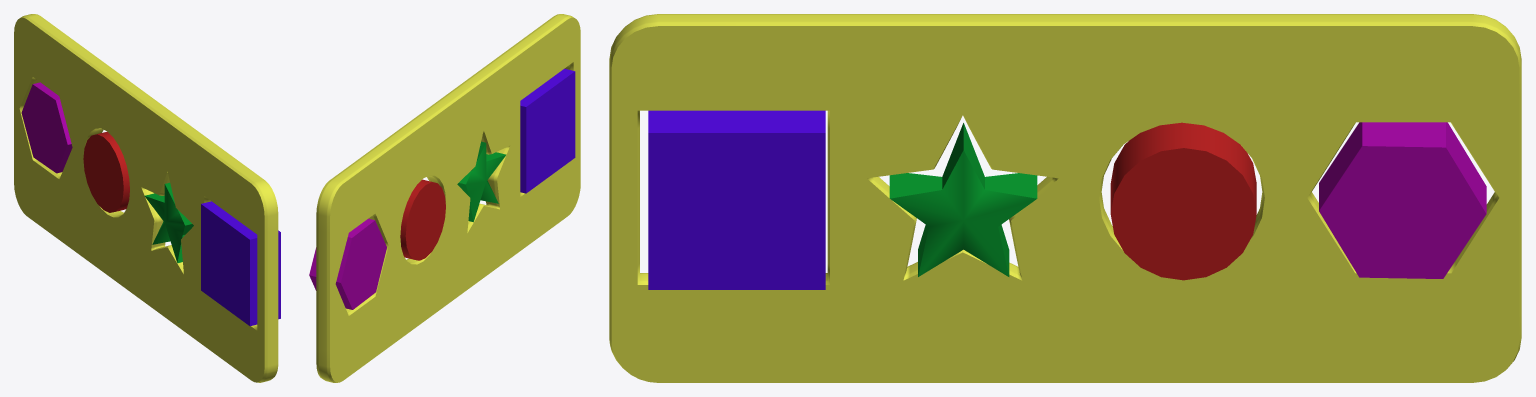
File: Formas montar.fbx
3 renders of one model, left to right at view 1: azimuth 30°, elevation 25°; view 2: azimuth 150°, elevation 25°; view 3: azimuth 270°, elevation 25°, orthographic. The views are drawn at different scales.
Parts seen in each view (by area): view 1: polySurface1, pCube10, poligono, pCylinder59, pCylinder58; view 2: polySurface1, pCube10, poligono, pCylinder59, pCylinder58; view 3: polySurface1, pCube10, poligono, pCylinder59, pCylinder58.
Part boxes in pixels (x1,y1,x2,y2): polySurface1: [14, 14, 278, 382]; pCube10: [201, 201, 280, 325]; poligono: [21, 82, 72, 173]; pCylinder59: [83, 131, 129, 212]; pCylinder58: [144, 182, 193, 263]; polySurface1: [316, 14, 580, 382]; pCube10: [520, 68, 575, 193]; poligono: [309, 218, 386, 309]; pCylinder59: [400, 179, 445, 260]; pCylinder58: [457, 141, 506, 222]; polySurface1: [609, 14, 1521, 382]; pCube10: [648, 110, 825, 289]; poligono: [1319, 122, 1486, 278]; pCylinder59: [1110, 122, 1256, 280]; pCylinder58: [889, 123, 1037, 276].
Bounding box in the file's own units: 1.8 × 9.56 × 21.91.
